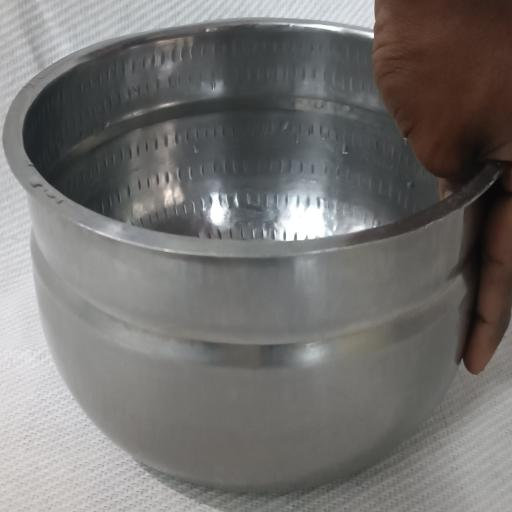vessel: (4, 20, 499, 490)
